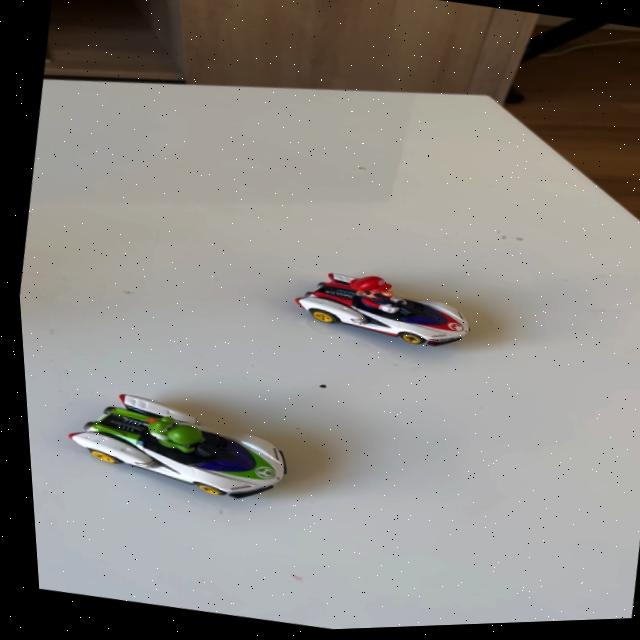mario: (275, 253, 490, 369)
yoshi: (47, 372, 308, 525)
